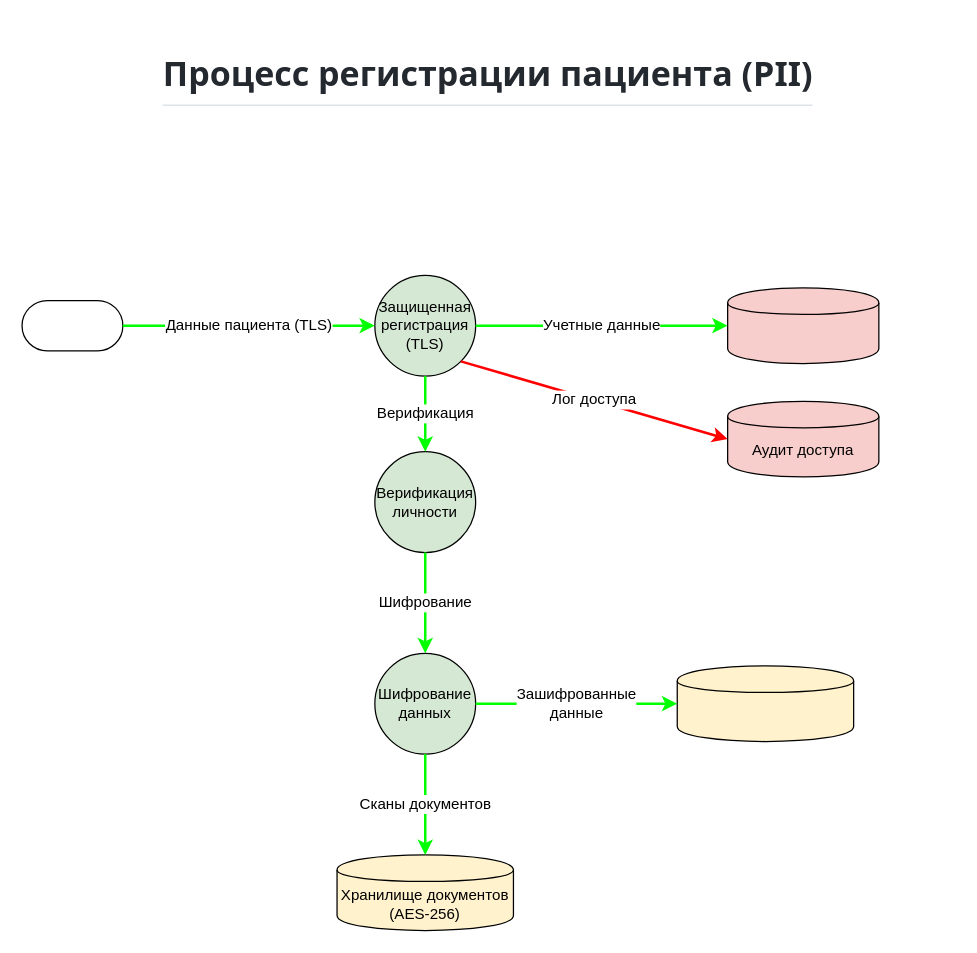
Some shapes in this 977 by 953 pixel diagram are drawn without their labels. The centre of each missing label's shape, as x and y in pixels:
"Keycloak (IAM)" belongs at (802,325).
"База пациентов (TDE)" belongs at (765,703).
"Пациент (портал)" belongs at (72,325).
